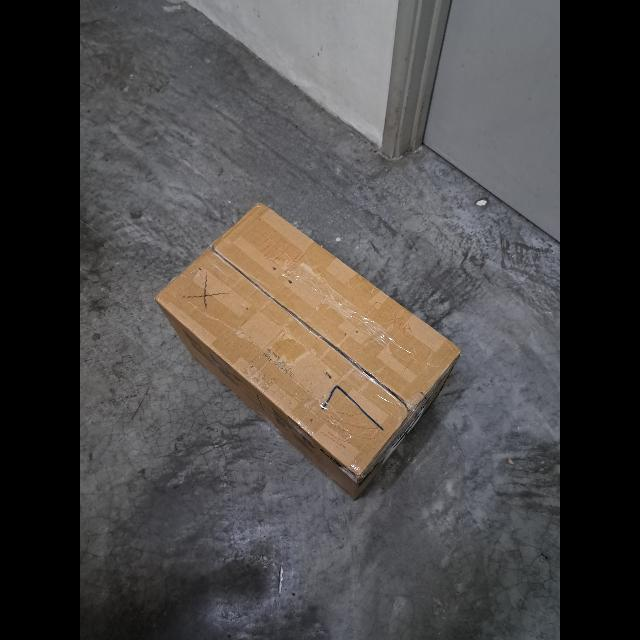papelão: (156, 200, 460, 494)
